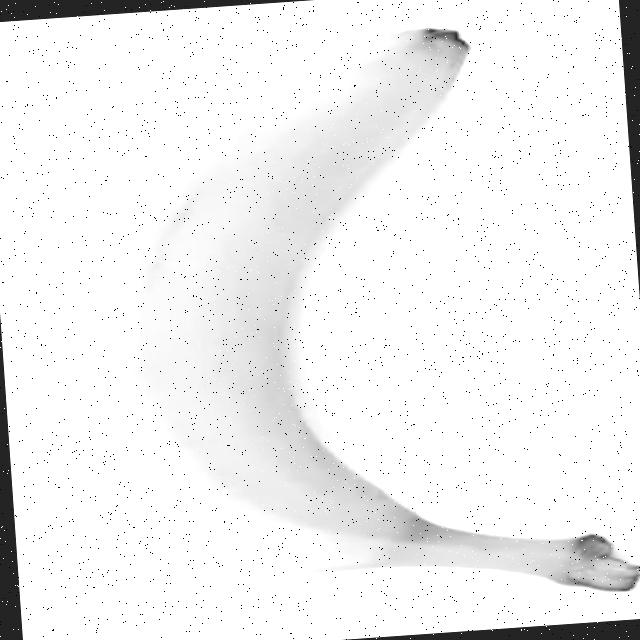Ripe: (21, 15, 554, 630)
